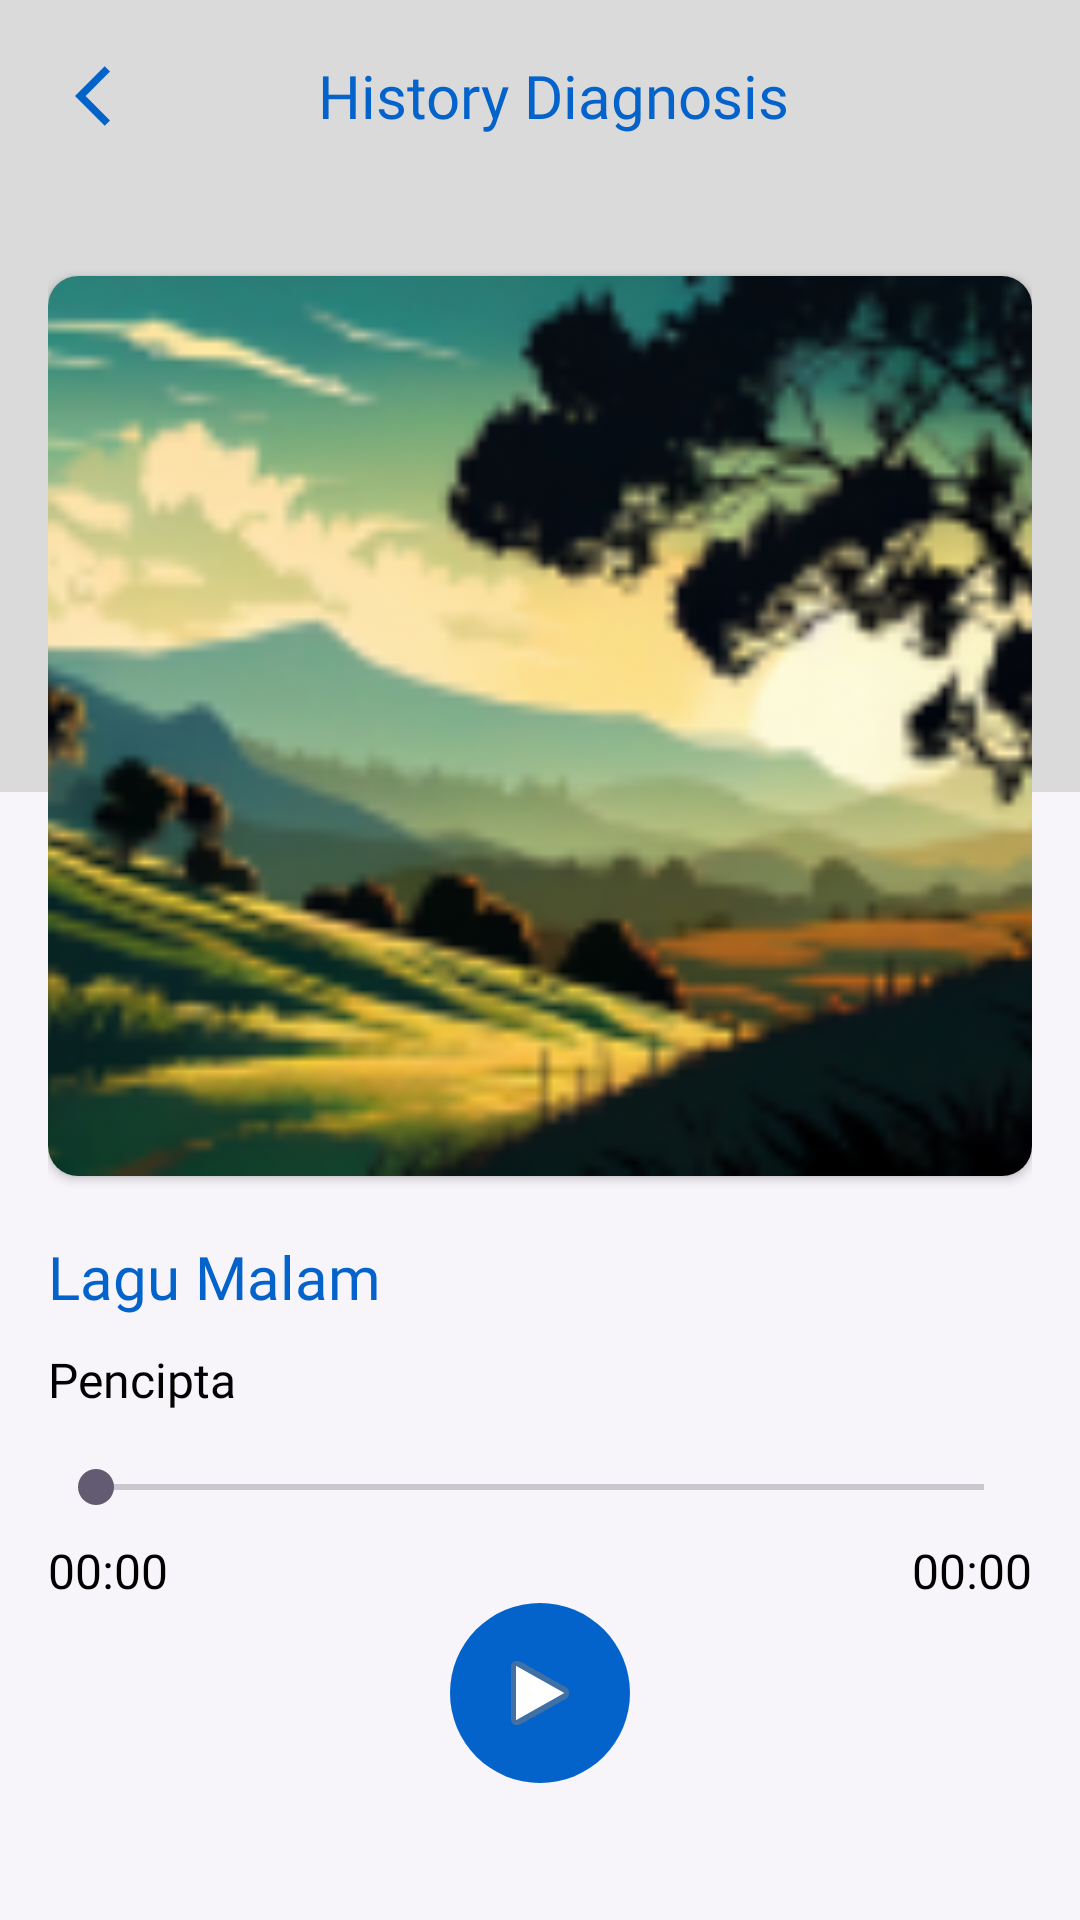

Point at icon controls on the screen. Image size 1080×1920, points as (x,y).
Button Back: (92,96)
play: (540,1693)
